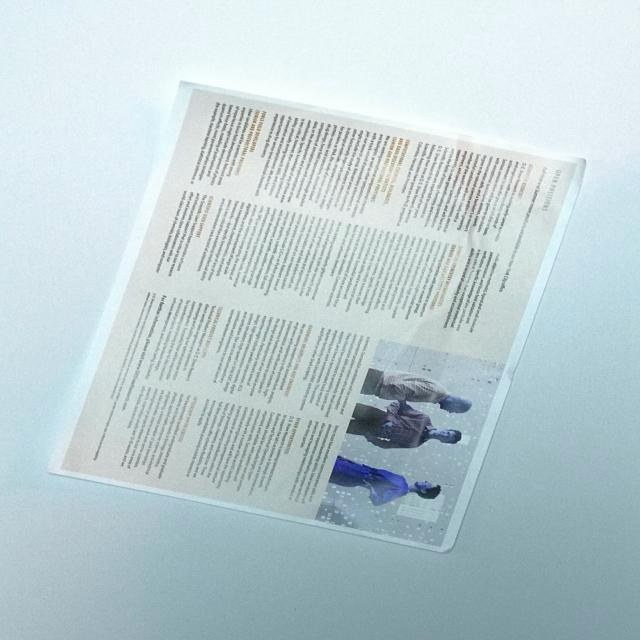paper: (45, 81, 588, 549)
